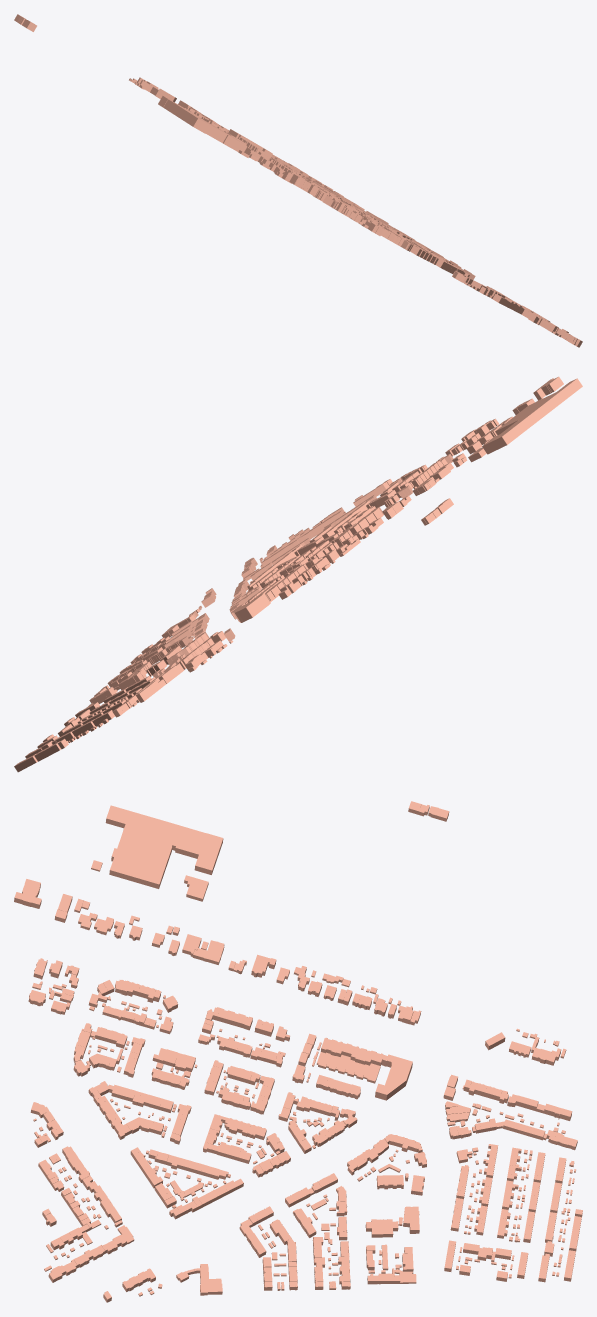
3 renders of one model, top to bottom at view 1: azimuth 30°, elevation 25°; view 2: azimuth 150°, elevation 25°; view 3: azimuth 270°, elevation 25°, orthographic. The views are drawn at different scales.
Bounding box in the file's own units: 519 × 388 × 635.
